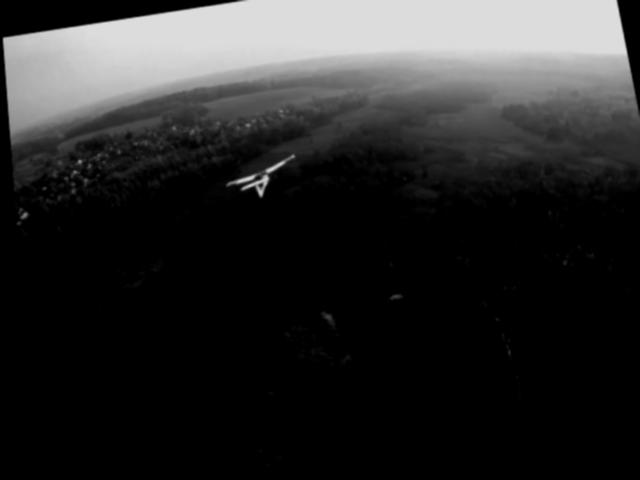hedef: (218, 145, 303, 210)
